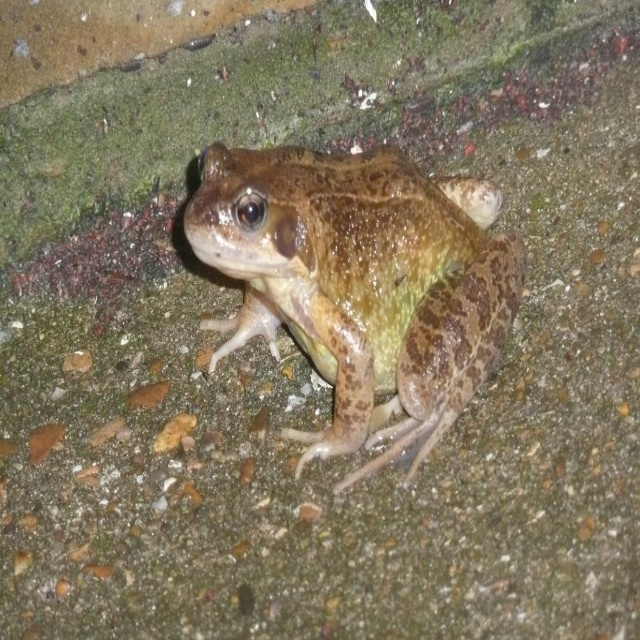Frog: (182, 140, 526, 494)
